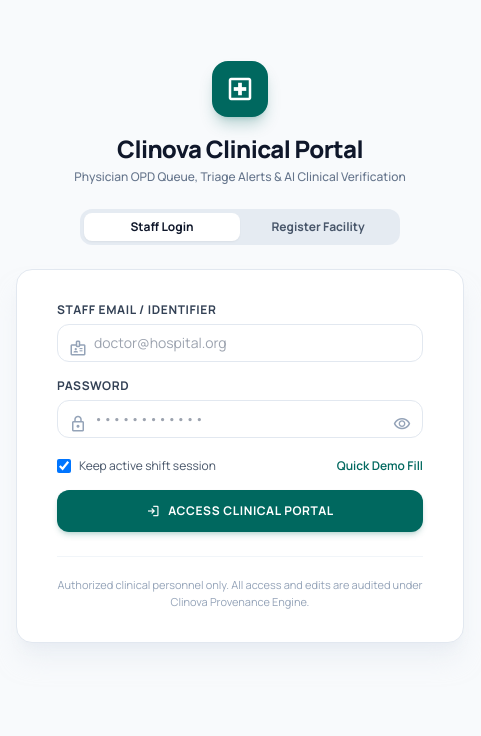
Scenario: Hospital Staff Authentication › switches between Staff Login and Register Facility tabs
The width and height of the screenshot is (481, 736).
Click the button "Register Facility": (318, 227) [240,213,396,241]
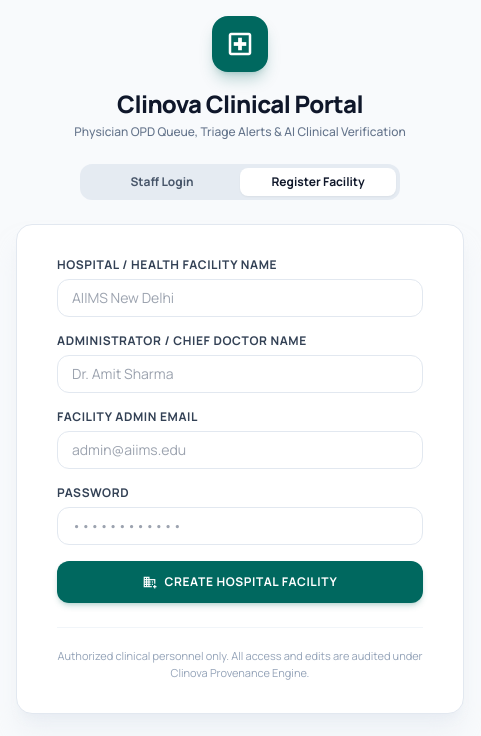
Expected: the field with placeholder "AIIMS New Delhi" is shown, [57,279,423,317]
Expected: the field with placeholder "Dr. Amit Sharma" is shown, [57,355,423,393]
Expected: the button "Create Hospital Facility" is shown, [57,561,423,603]
